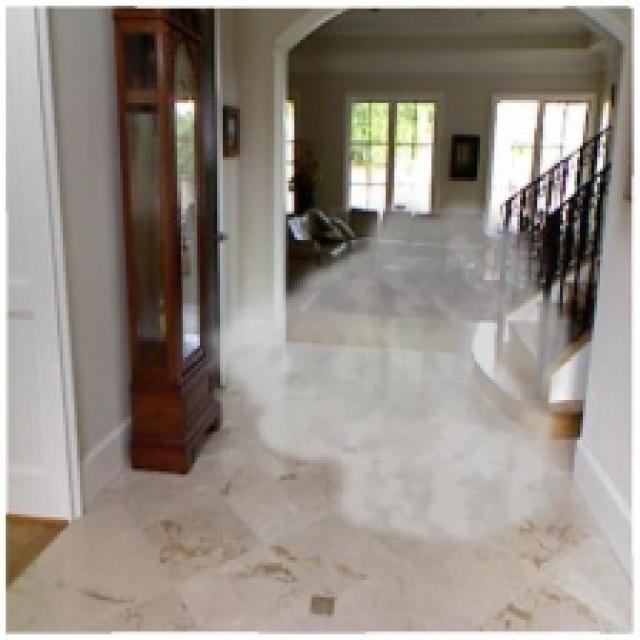smoke: (200, 189, 580, 554)
